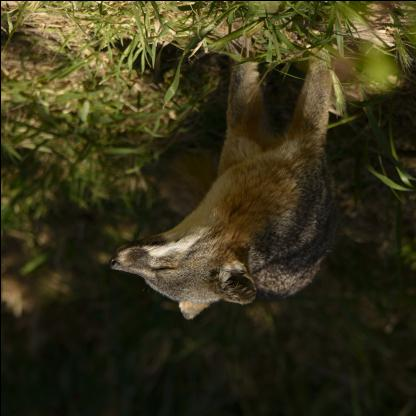zorro: (105, 36, 338, 325)
